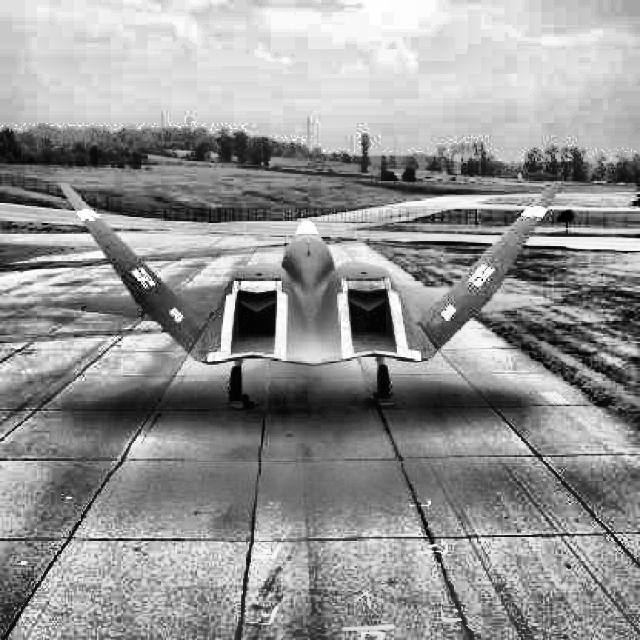YF23: (56, 178, 566, 398)
